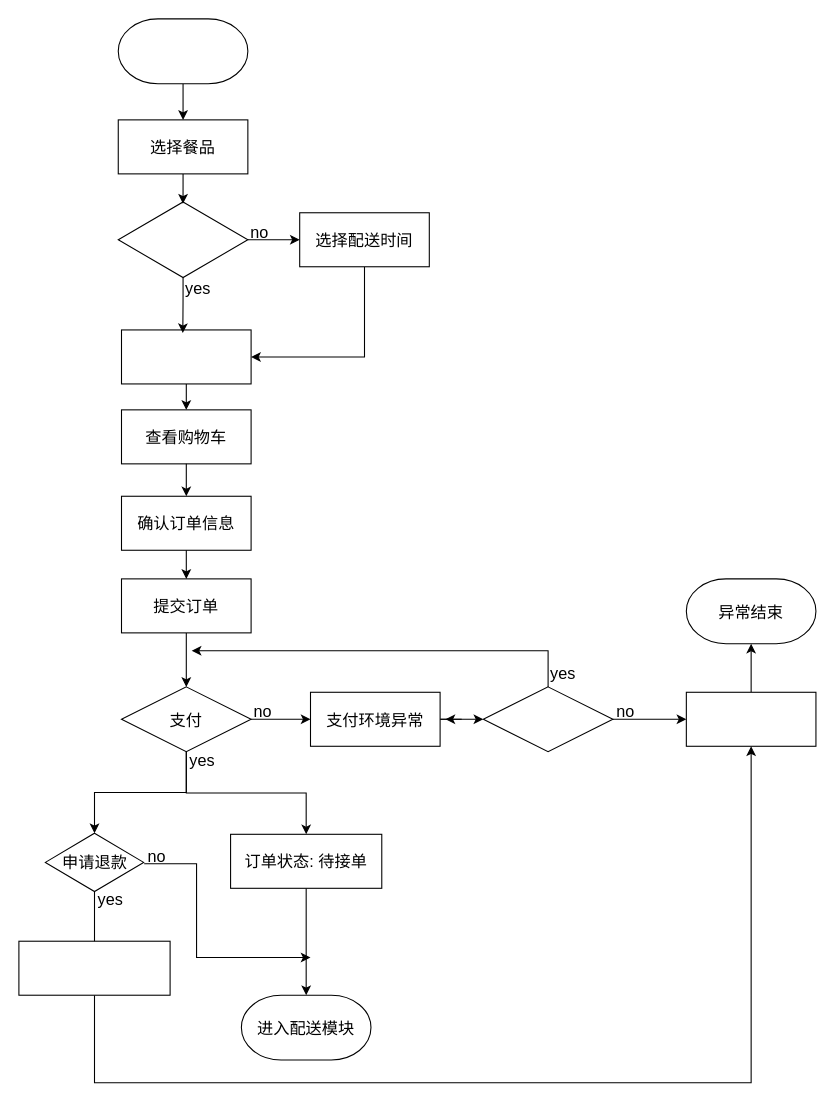
The diagram is 835 pixels wide and 1110 high, and some of its shapes have lost their labels. Each missing label, with the centre of its shape:
加入购物车: the point at 185,356
取消订单: the point at 750,718
开始: the point at 182,51
现在下单: the point at 182,239
用户自处理: the point at 547,719
退款: the point at 94,967
